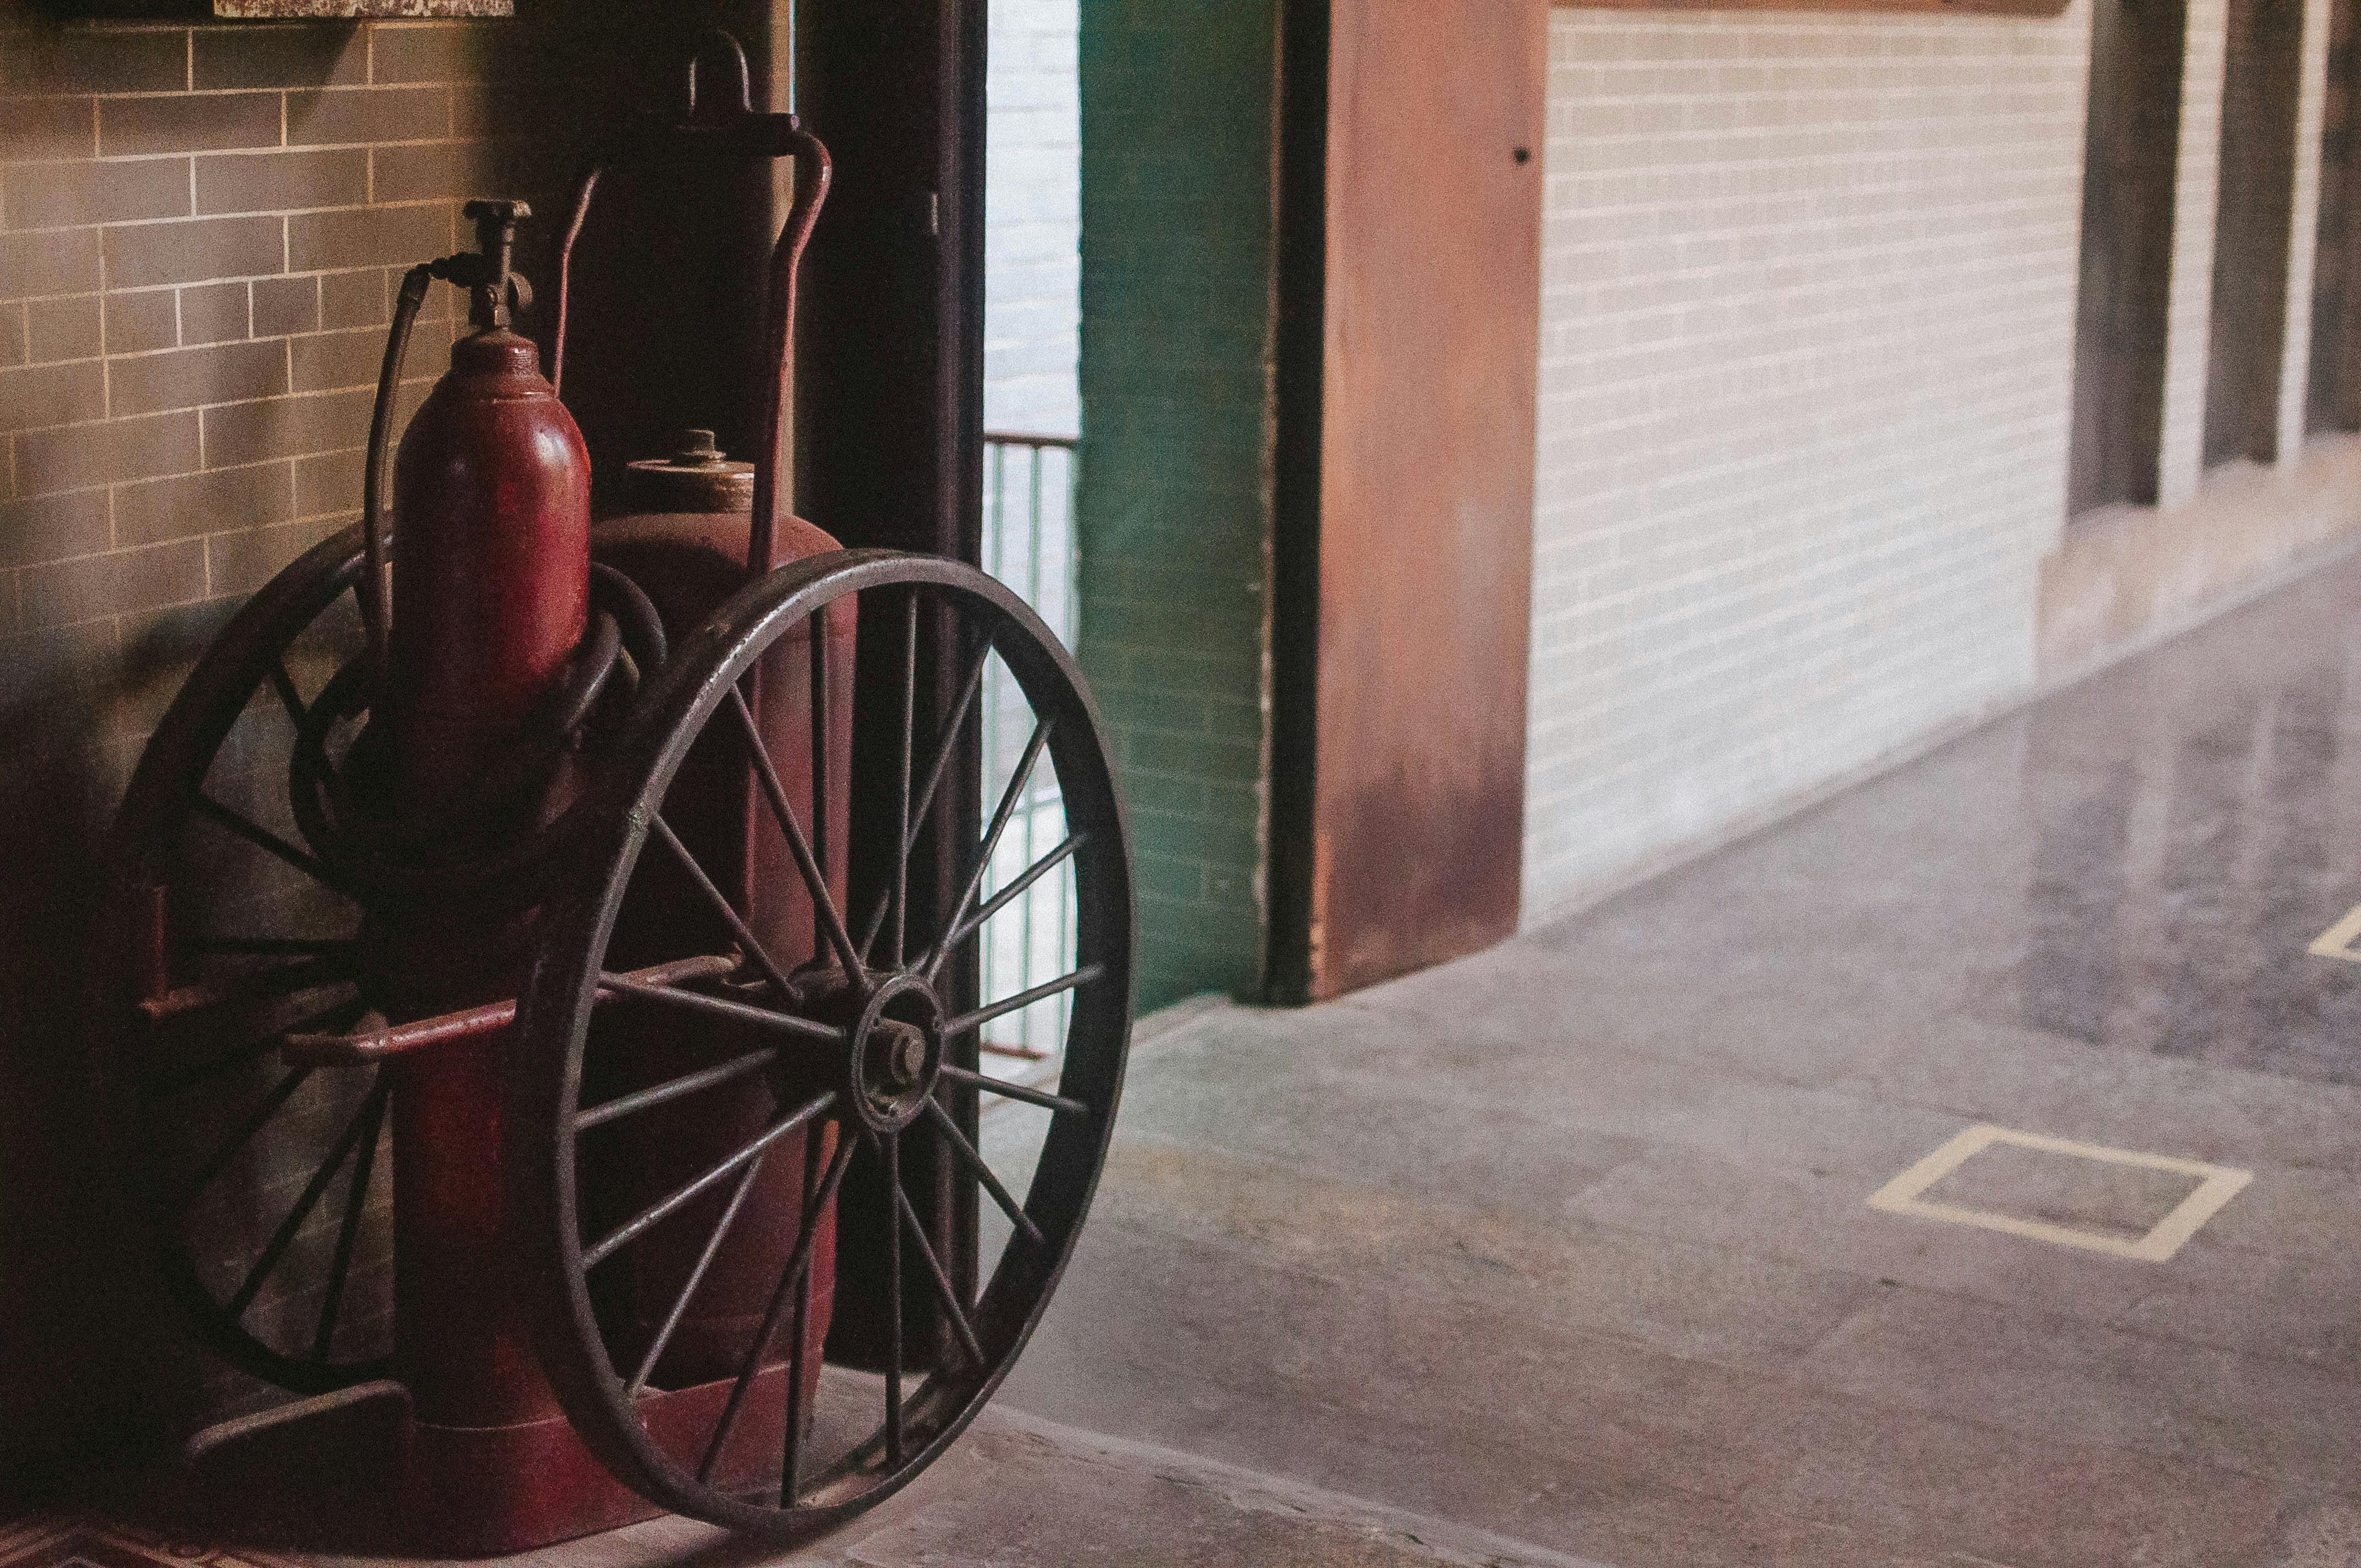extintor: (350, 192, 597, 1447)
